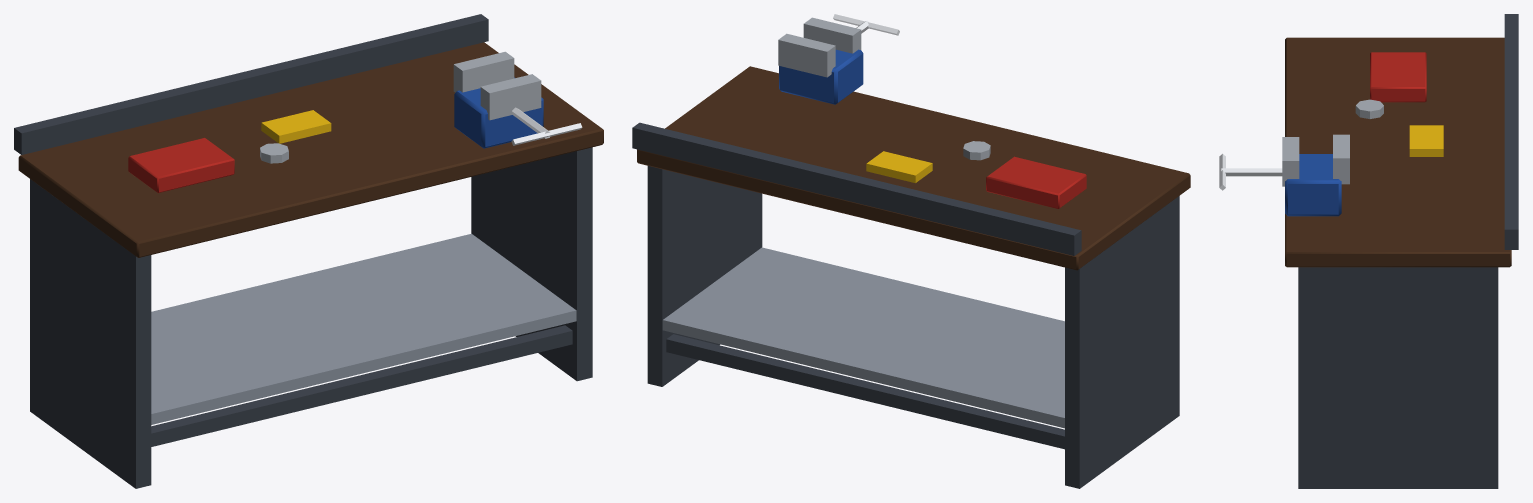
Rendered from engtool_work_bench_with_vise.glb.
3 views of the same model, side by side, from view 1: azimuth 30°, elevation 25°; view 2: azimuth 150°, elevation 25°; view 3: azimuth 270°, elevation 25° (orthographic). The views are drawn at different scales.
Parts seen in each view (by area): view 1: engtool_work_bench_with_vise; view 2: engtool_work_bench_with_vise; view 3: engtool_work_bench_with_vise.
Part boxes in pixels (x1,y1,x2,y2): engtool_work_bench_with_vise: [14, 14, 603, 488]; engtool_work_bench_with_vise: [632, 14, 1190, 488]; engtool_work_bench_with_vise: [1219, 14, 1518, 488].
Bounding box in the file's own units: 1.8 × 1.18 × 1.06.
